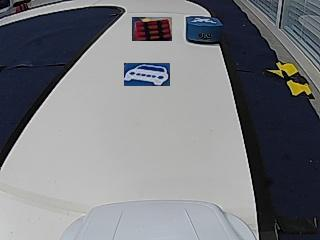prop: (185, 16, 224, 45)
